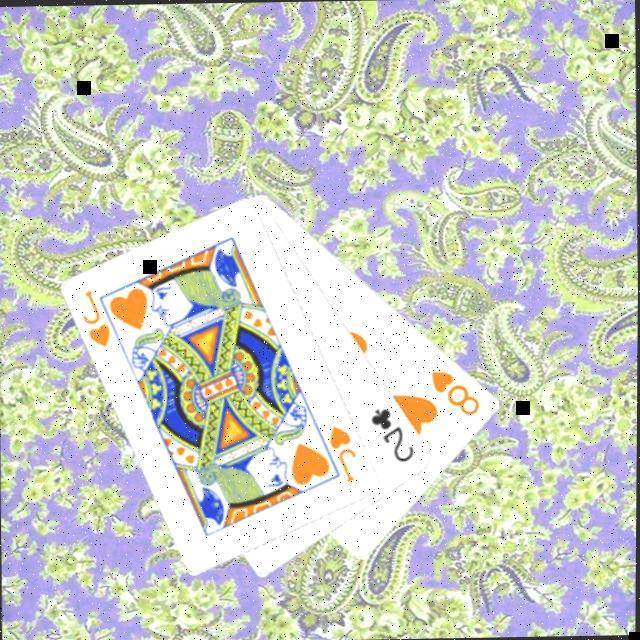2C: (365, 403, 416, 464)
8H: (427, 364, 482, 417)
JH: (324, 420, 359, 485), (77, 284, 112, 349)
